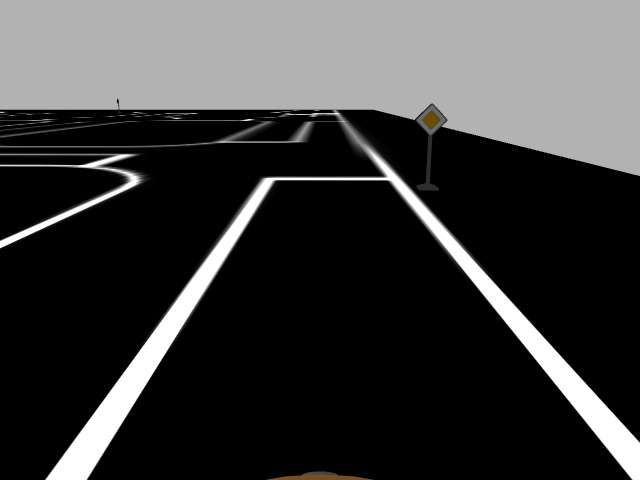priority: (414, 101, 449, 136)
